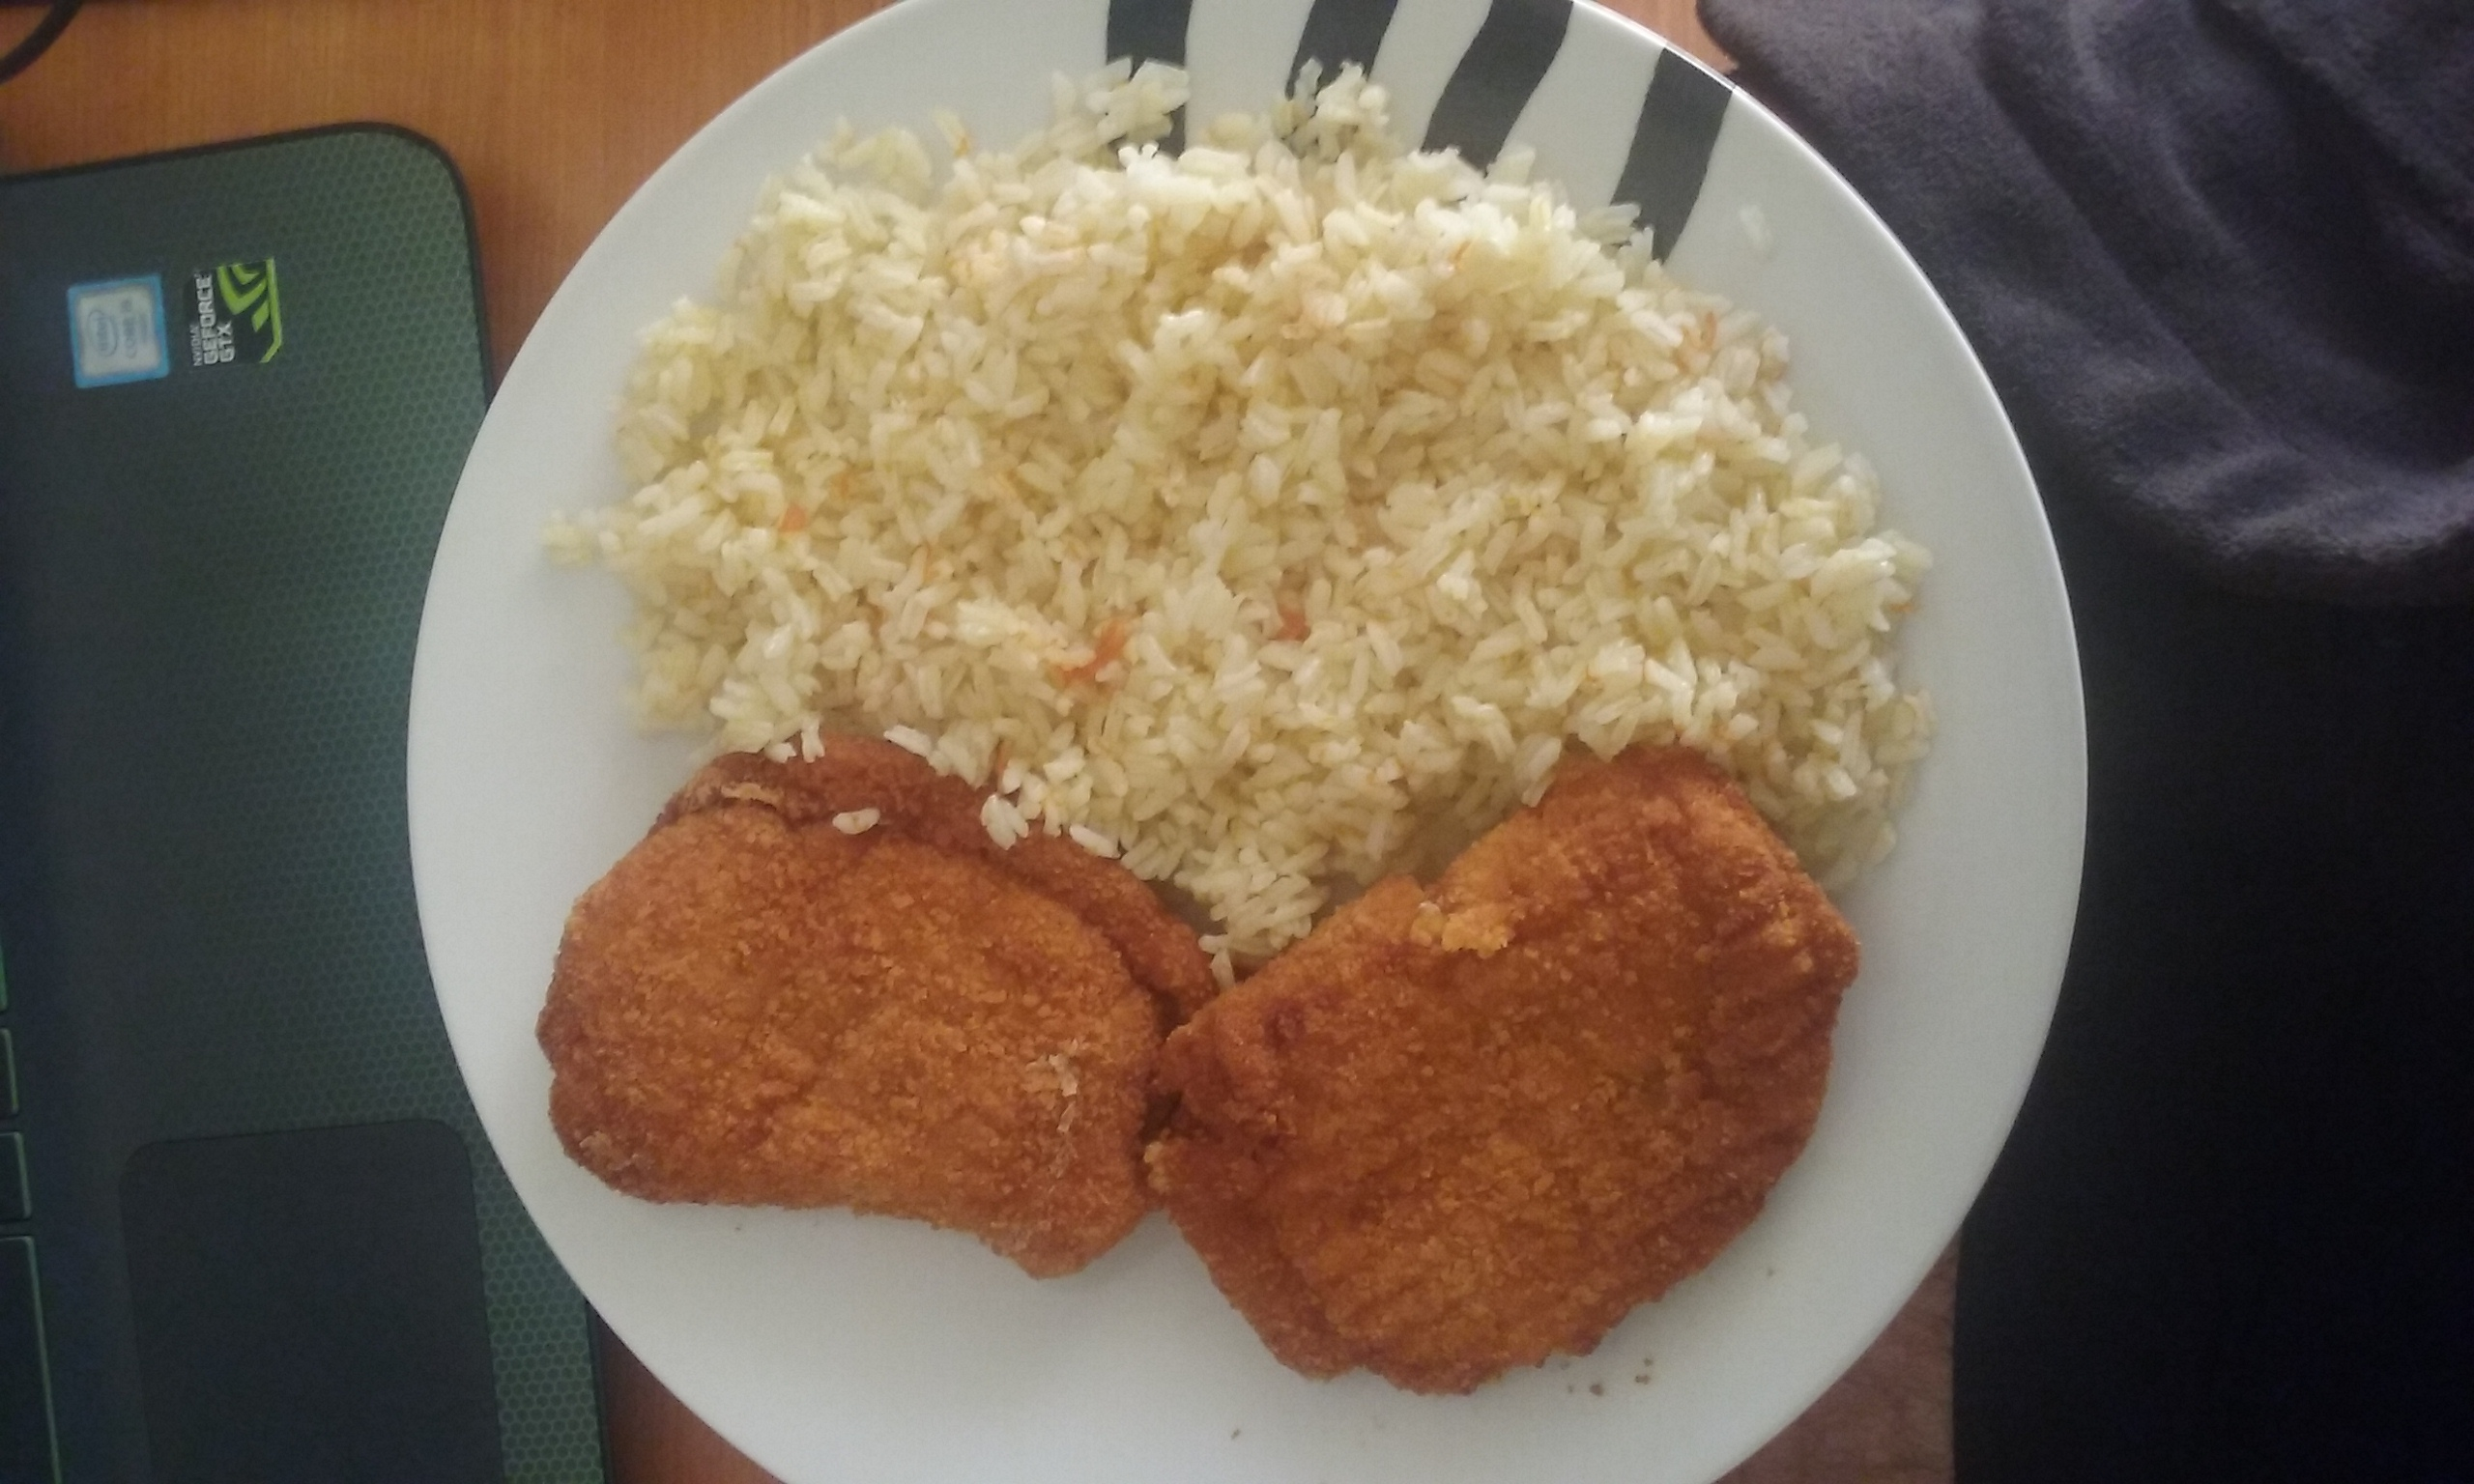81-100: (477, 4, 2080, 1473)
